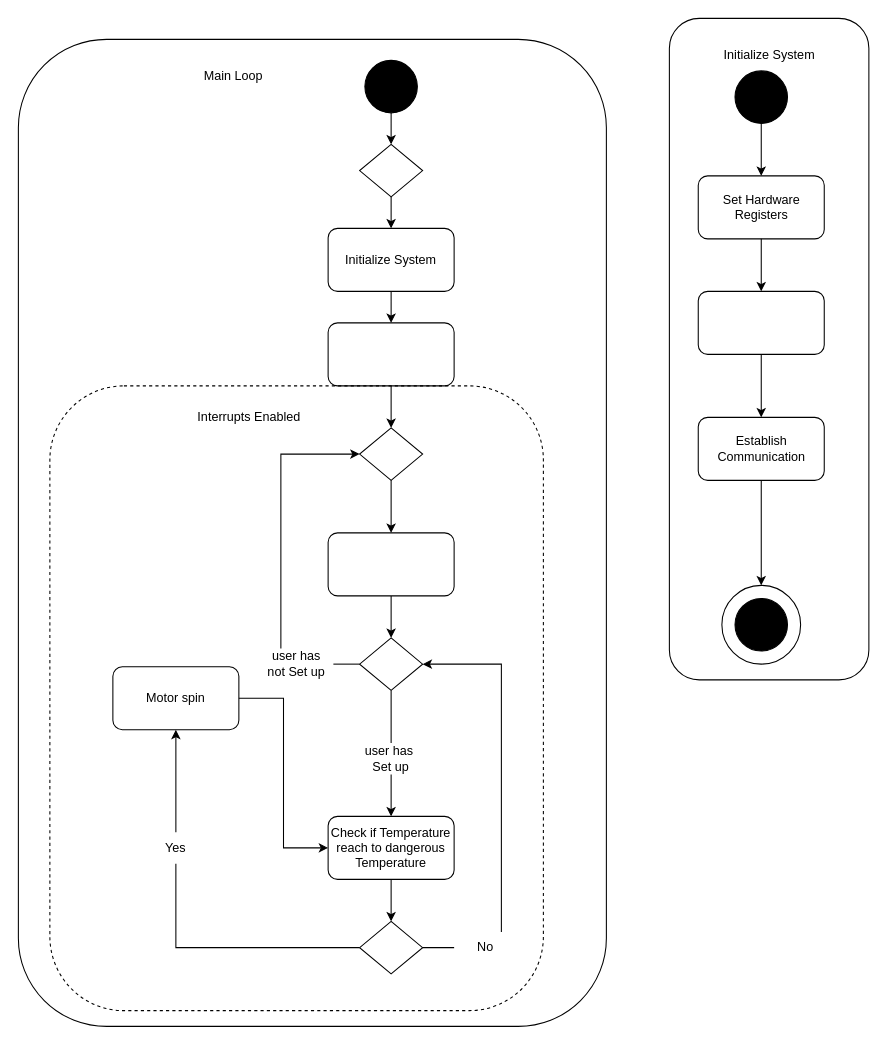
This 887x1045 diagram has some shape labels left out. Each missing label, with the box of its shape:
Check if user has Set up a dangerous Temperature: (327, 532, 454, 596)
Enable Interrupts: (327, 322, 454, 386)
Reset Interna Variables: (697, 290, 824, 354)
